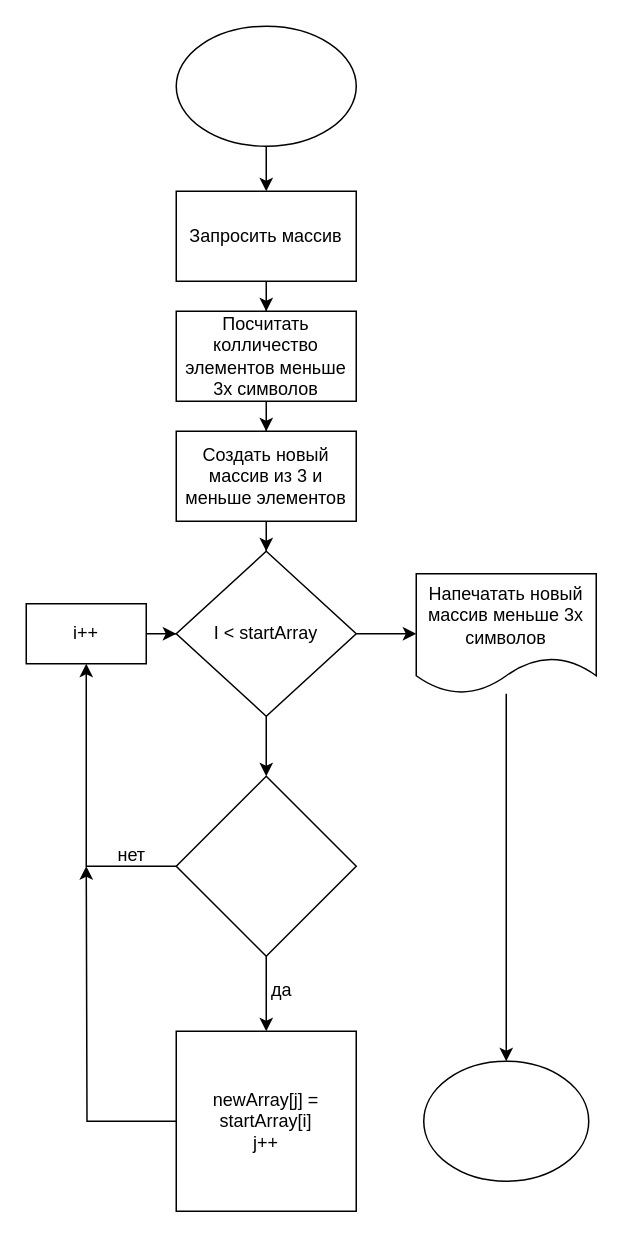
This 623x1238 diagram has some shape labels left out. The centre of each missing label's shape, as x and y in pixels:
"if startArray <=3" goes at point (265, 865).
"Начало" goes at point (265, 85).
"Окончание" goes at point (505, 1120).
